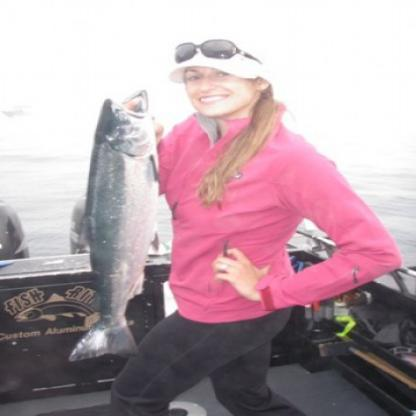fish: (66, 88, 155, 360)
